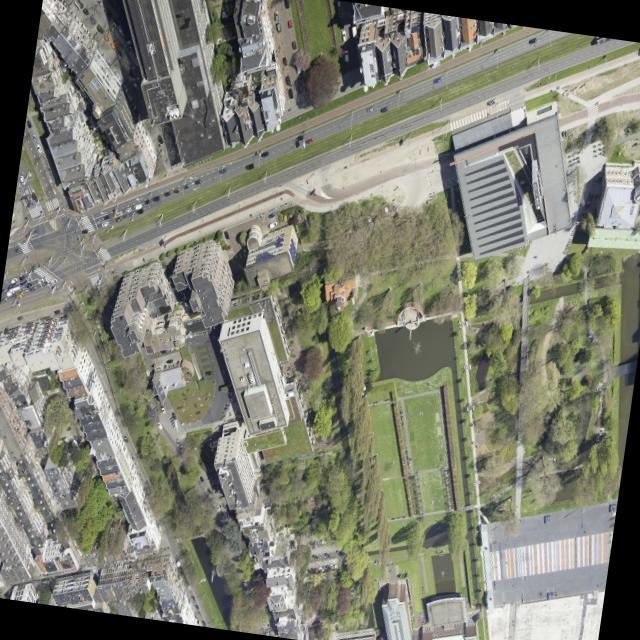large-vehicle: (93, 316, 112, 361), (7, 277, 28, 292), (10, 289, 23, 301)
small-vehicle: (20, 193, 30, 209), (350, 16, 357, 37), (95, 22, 104, 34), (112, 208, 122, 218), (103, 6, 111, 18), (88, 13, 96, 25), (74, 0, 83, 10), (129, 42, 137, 53), (155, 419, 163, 430), (109, 40, 117, 51), (167, 121, 174, 133), (268, 219, 277, 228), (48, 276, 57, 285), (343, 48, 349, 61), (276, 20, 282, 33), (124, 33, 131, 44), (132, 79, 139, 90), (23, 186, 30, 197), (116, 50, 123, 61), (35, 142, 42, 153), (245, 162, 254, 170), (5, 288, 14, 296), (487, 97, 496, 105), (133, 201, 141, 210), (455, 175, 462, 185), (112, 18, 119, 28), (82, 6, 89, 16), (103, 32, 110, 42), (28, 196, 34, 207), (157, 133, 163, 144), (260, 149, 268, 157), (383, 205, 389, 215), (349, 2, 354, 14), (339, 17, 344, 29), (341, 29, 346, 41), (223, 229, 229, 239), (288, 86, 293, 98), (154, 392, 160, 402), (71, 437, 77, 447), (19, 174, 25, 184), (118, 25, 124, 35), (100, 220, 108, 227), (194, 177, 201, 185), (152, 194, 159, 202), (285, 74, 290, 85), (392, 210, 398, 219), (178, 443, 184, 452), (215, 326, 221, 335), (216, 332, 222, 341), (127, 69, 133, 78), (16, 181, 22, 190), (31, 132, 37, 141), (391, 201, 396, 211), (282, 56, 287, 66), (145, 367, 150, 377), (26, 118, 31, 128), (529, 36, 536, 43), (305, 137, 312, 144), (380, 105, 387, 112), (366, 105, 373, 112), (433, 76, 440, 83), (219, 167, 226, 174), (114, 215, 121, 222), (103, 213, 110, 220), (173, 186, 180, 193), (29, 284, 36, 291), (25, 281, 32, 288), (10, 276, 17, 283), (96, 0, 103, 7), (136, 207, 143, 214), (128, 210, 135, 217), (182, 182, 189, 189), (175, 559, 181, 567), (387, 203, 392, 212), (31, 191, 36, 200), (171, 410, 176, 419), (346, 60, 350, 71), (296, 62, 300, 73), (274, 9, 278, 20), (311, 553, 318, 559), (0, 296, 7, 302), (320, 537, 326, 544), (268, 211, 274, 218), (279, 108, 285, 115), (124, 206, 131, 212), (165, 357, 172, 363), (150, 412, 156, 419), (296, 134, 303, 140), (328, 562, 334, 569), (164, 190, 170, 197), (37, 276, 43, 283), (81, 227, 87, 234), (18, 273, 24, 280), (143, 198, 150, 204), (308, 530, 313, 538), (292, 39, 296, 49), (145, 403, 150, 411), (94, 568, 99, 576), (158, 400, 163, 408), (123, 434, 128, 442), (324, 551, 330, 557), (306, 567, 312, 573), (343, 560, 349, 566), (335, 549, 341, 555), (321, 564, 327, 570), (317, 565, 323, 571), (236, 233, 242, 239), (225, 244, 231, 250), (298, 73, 302, 82), (288, 19, 292, 28), (94, 217, 100, 223), (205, 369, 211, 375), (12, 293, 18, 299), (14, 247, 20, 253), (17, 285, 23, 291), (54, 308, 60, 314), (17, 314, 23, 320), (186, 583, 191, 590), (215, 503, 220, 510), (209, 474, 214, 481), (149, 381, 154, 388), (159, 348, 166, 353), (175, 438, 180, 445), (367, 215, 371, 223), (285, 0, 289, 8), (131, 372, 135, 380), (325, 563, 330, 569), (311, 543, 316, 549), (313, 539, 318, 545), (309, 540, 314, 546), (310, 566, 315, 572), (243, 246, 248, 252), (256, 213, 262, 218), (72, 433, 77, 439), (65, 425, 71, 430), (41, 451, 45, 458), (214, 485, 218, 492), (164, 394, 168, 401), (161, 406, 165, 413), (334, 623, 338, 630), (302, 568, 307, 573), (333, 563, 338, 568), (314, 566, 319, 571), (168, 346, 173, 351), (201, 619, 205, 625), (199, 475, 203, 481), (184, 579, 188, 585), (178, 564, 182, 570), (219, 510, 223, 516), (206, 487, 210, 493), (217, 485, 221, 491), (191, 594, 195, 600), (265, 628, 268, 635), (261, 617, 264, 624), (83, 434, 86, 441), (182, 575, 186, 580), (193, 599, 197, 604), (181, 570, 184, 576), (195, 603, 198, 609), (76, 438, 79, 444), (173, 345, 178, 348)
